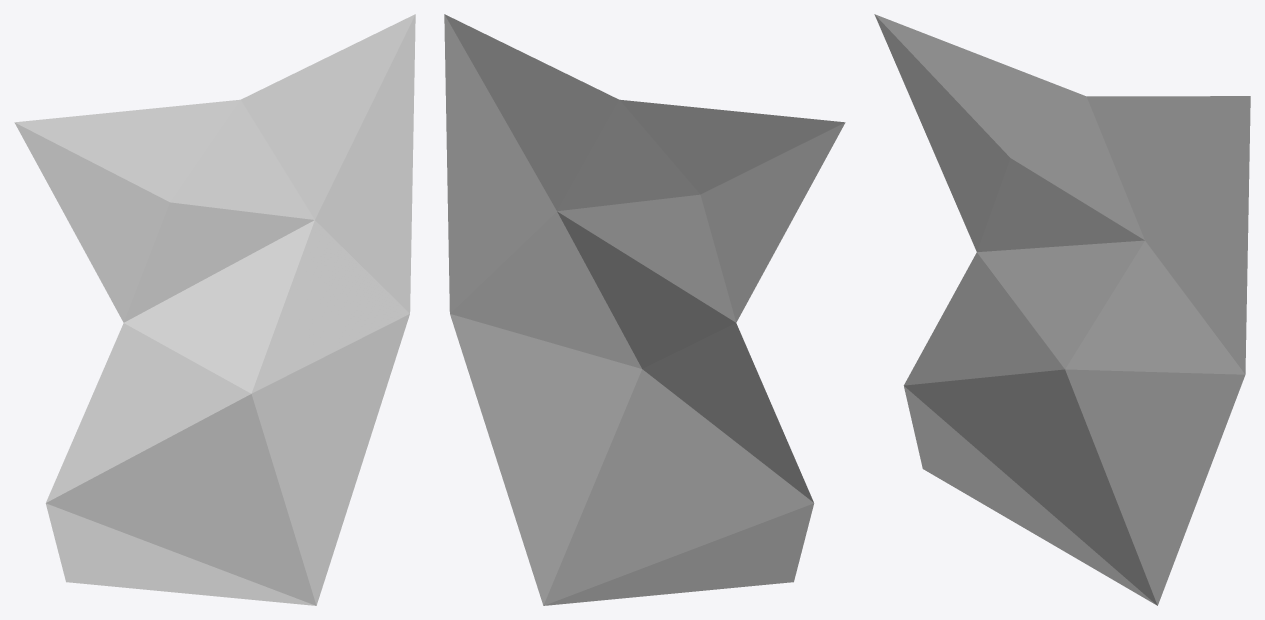
The model's file is SM_Env_Ivy_05.glb.
3 renders of one model, left to right at view 1: azimuth 30°, elevation 25°; view 2: azimuth 150°, elevation 25°; view 3: azimuth 330°, elevation 25°, orthographic. The views are drawn at different scales.
Parts seen in each view (by area): view 1: SM_Env_Ivy_05; view 2: SM_Env_Ivy_05; view 3: SM_Env_Ivy_05.
Part boxes in pixels (bbox=[...]): SM_Env_Ivy_05: bbox=[14, 14, 415, 605]; SM_Env_Ivy_05: bbox=[444, 14, 845, 605]; SM_Env_Ivy_05: bbox=[874, 14, 1250, 605].
Bounding box in the file's own units: 1.16 × 1.56 × 0.0843.
Materials: 1 (1 with a texture image).
